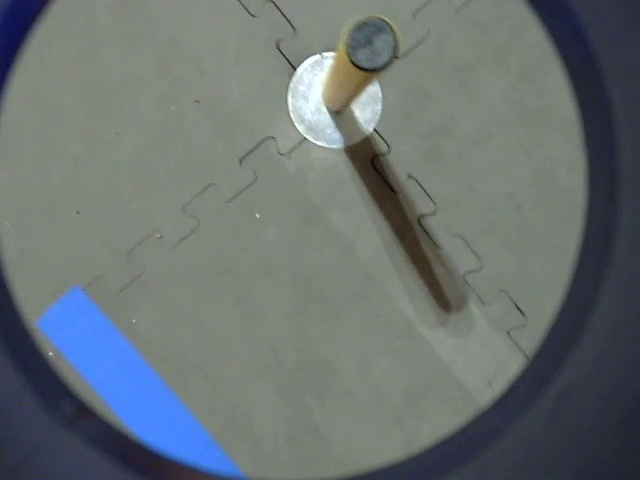tip: (335, 13, 406, 80)
